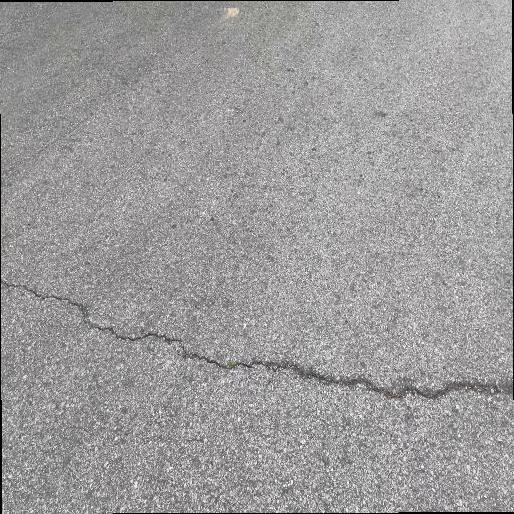Melintang: (2, 267, 514, 415)
